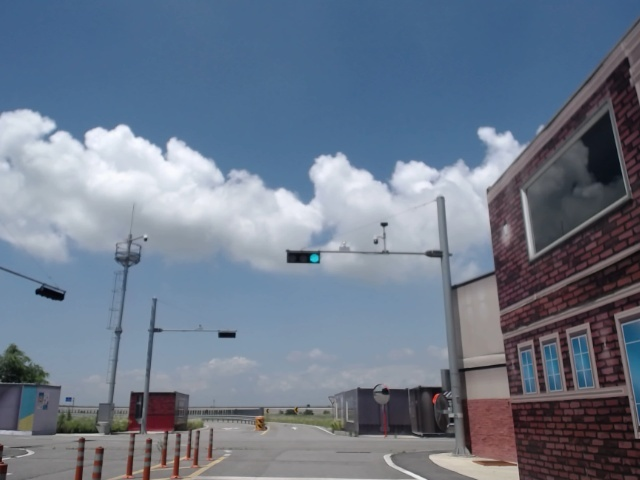green_3: (287, 252, 319, 264)
